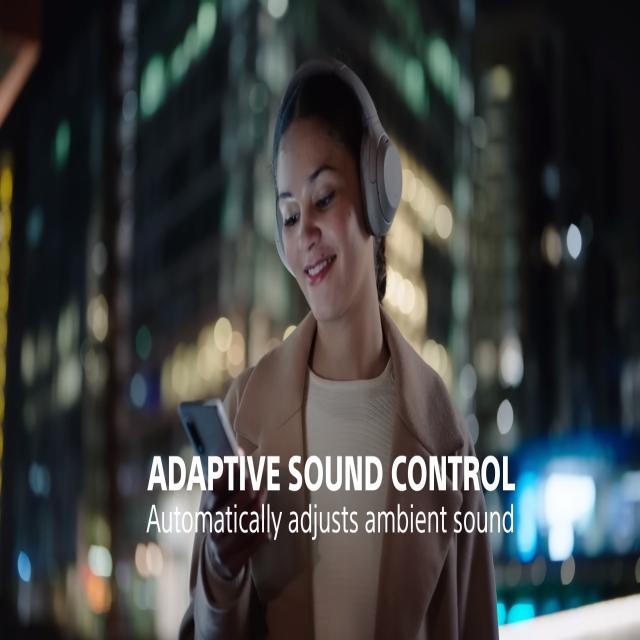Headphone: (273, 55, 403, 278)
